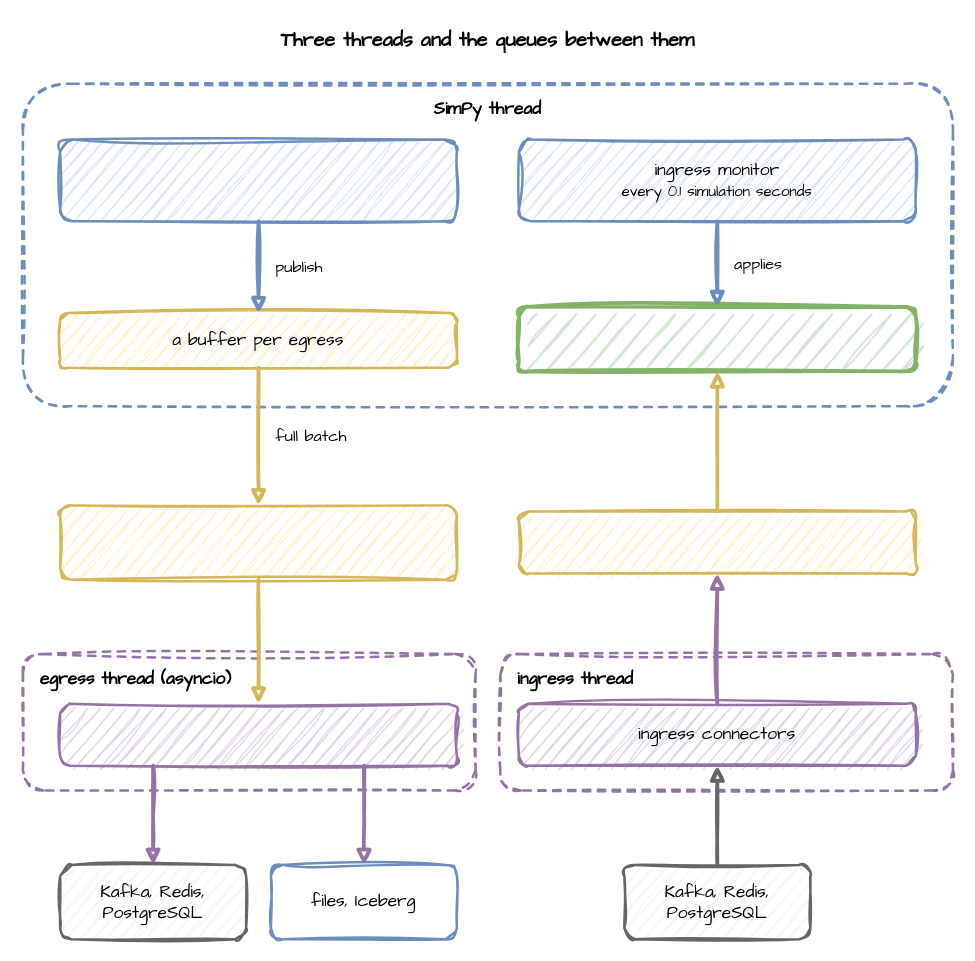
Image size: 975x961. Some labels were removed from this diagram. The centre of each missing label's shape, as x and y in pixels:
(path, value) queue: the point at 716,542
a queue per egress at most max_queued_batches: the point at 258,541
egress connectors: the point at 258,734
processes and tasks run the event loop and move the simulation clock: the point at 258,180
registry: the point at 716,338
